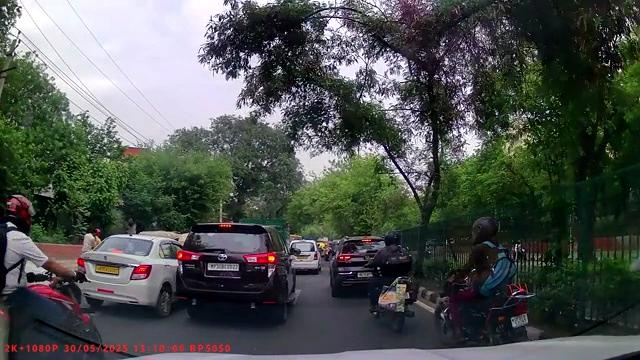motorcycle_with_helmet: (0, 194, 104, 358), (438, 215, 534, 345), (368, 229, 417, 333)
